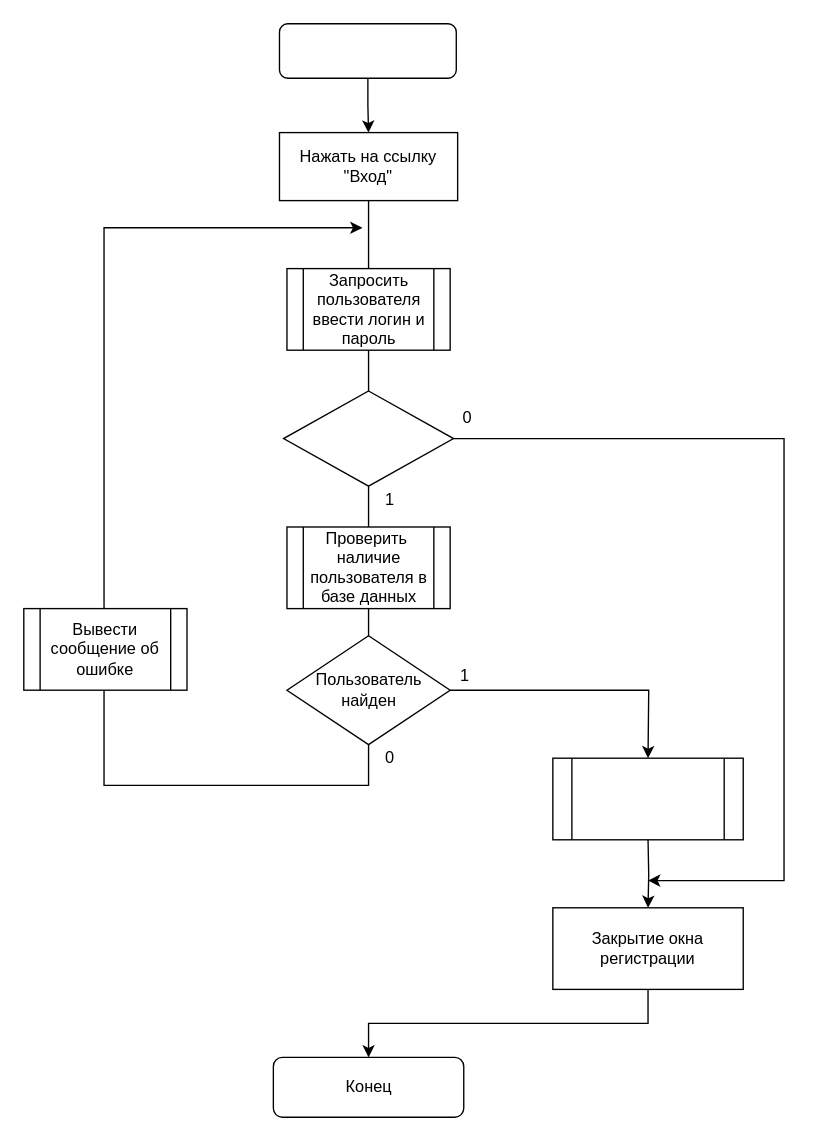
The diagram is 819 pixels wide and 1141 high, and some of its shapes have lost their labels. Each missing label, with the box of its shape:
Начало: (278, 22, 456, 78)
Пользователь ввёл данные: (282, 390, 454, 486)
Сообщить об успешной авторизации: (551, 757, 743, 840)
